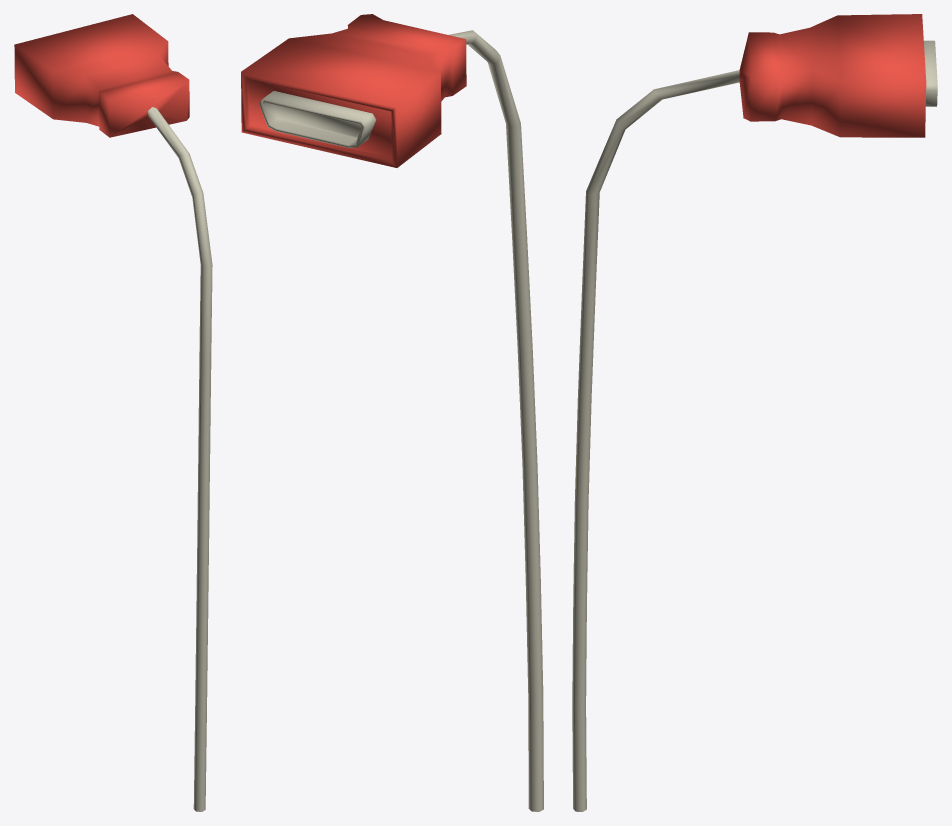
File: OximetroPlug.fbx
The picture shows the model from 3 angles, left to right: view 1: azimuth 30°, elevation 25°; view 2: azimuth 150°, elevation 25°; view 3: azimuth 270°, elevation 25°; orthographic projection. The views are drawn at different scales.
Parts seen in each view (by area): view 1: OximetroPlug.001; view 2: OximetroPlug.001; view 3: OximetroPlug.001.
Part boxes in pixels (bbox=[...]): OximetroPlug.001: bbox=[14, 14, 212, 811]; OximetroPlug.001: bbox=[241, 14, 543, 811]; OximetroPlug.001: bbox=[572, 14, 937, 811].
Size of the model in its own units: 3.49 by 18.49 by 7.91.
